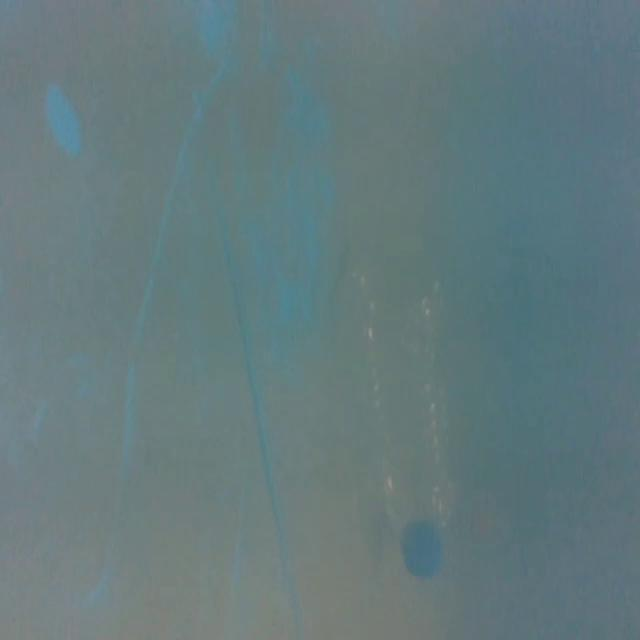plastic bottle: (335, 242, 473, 585)
